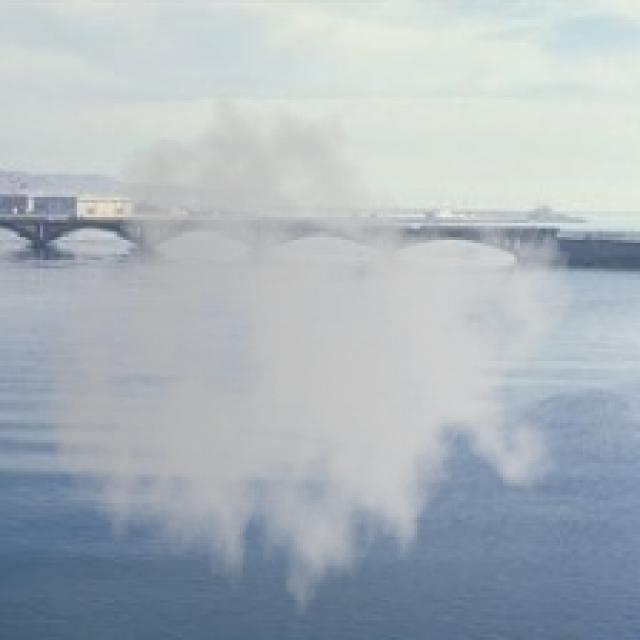smoke: (43, 77, 580, 637)
